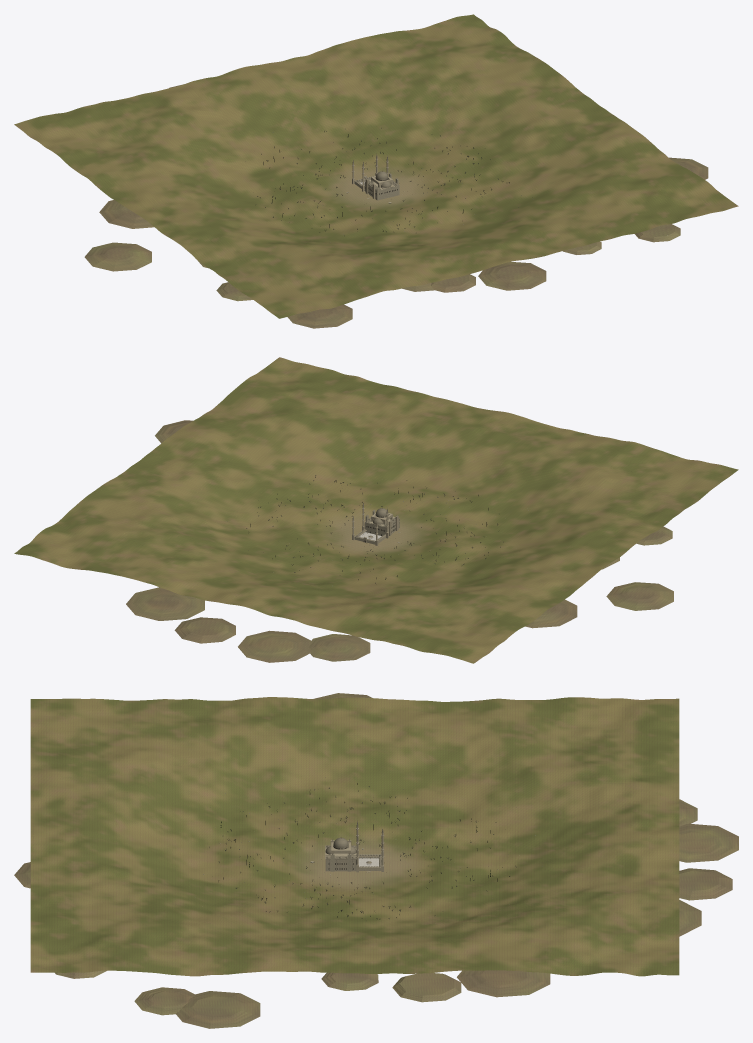
The model's file is suleymaniye-camii-baked.glb.
3 renders of one model, top to bottom at view 1: azimuth 30°, elevation 25°; view 2: azimuth 150°, elevation 25°; view 3: azimuth 270°, elevation 25°, orthographic. The views are drawn at different scales.
Parts seen in each view (by area): view 1: suleymaniye-camii-terrain, suleymaniye-camii-ground, suleymaniye-camii-near; view 2: suleymaniye-camii-terrain, suleymaniye-camii-ground, suleymaniye-camii-near; view 3: suleymaniye-camii-terrain, suleymaniye-camii-ground, suleymaniye-camii-near, suleymaniye-camii-flora.
Part boxes in pixels (x1,y1,x2,y2): suleymaniye-camii-terrain: (14, 14, 738, 318); suleymaniye-camii-ground: (84, 84, 708, 328); suleymaniye-camii-near: (352, 154, 399, 200); suleymaniye-camii-terrain: (14, 357, 738, 663); suleymaniye-camii-ground: (126, 420, 673, 662); suleymaniye-camii-near: (352, 503, 400, 545); suleymaniye-camii-terrain: (30, 697, 679, 976); suleymaniye-camii-ground: (14, 693, 738, 1028); suleymaniye-camii-near: (325, 821, 384, 875); suleymaniye-camii-flora: (195, 777, 542, 919).
Size of the model in its own units: 1484 by 81.48 by 1353.
15 materials, 11 textured.
